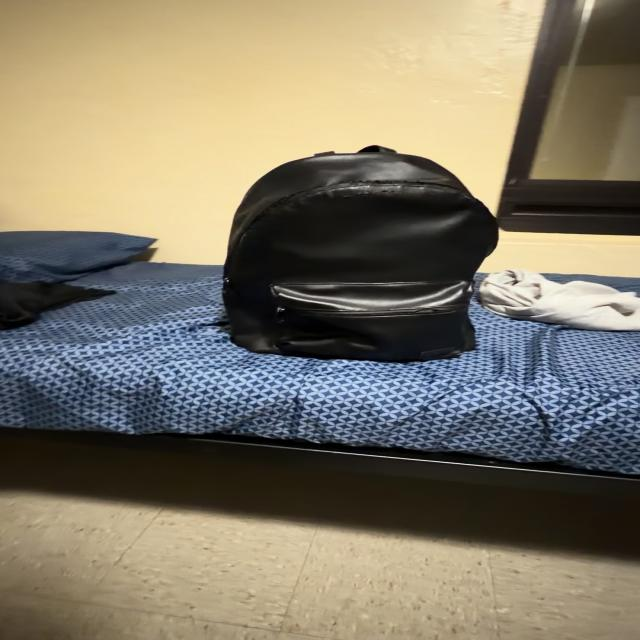backpack: (223, 146, 498, 361)
